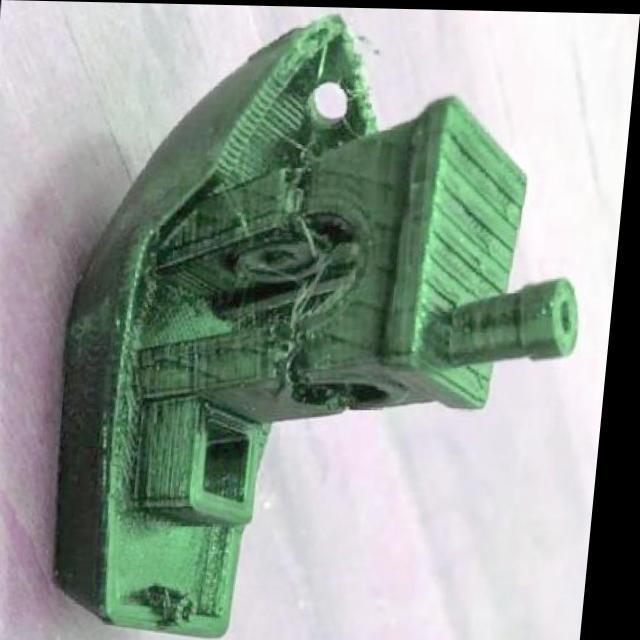spaghetti: (278, 198, 348, 325)
